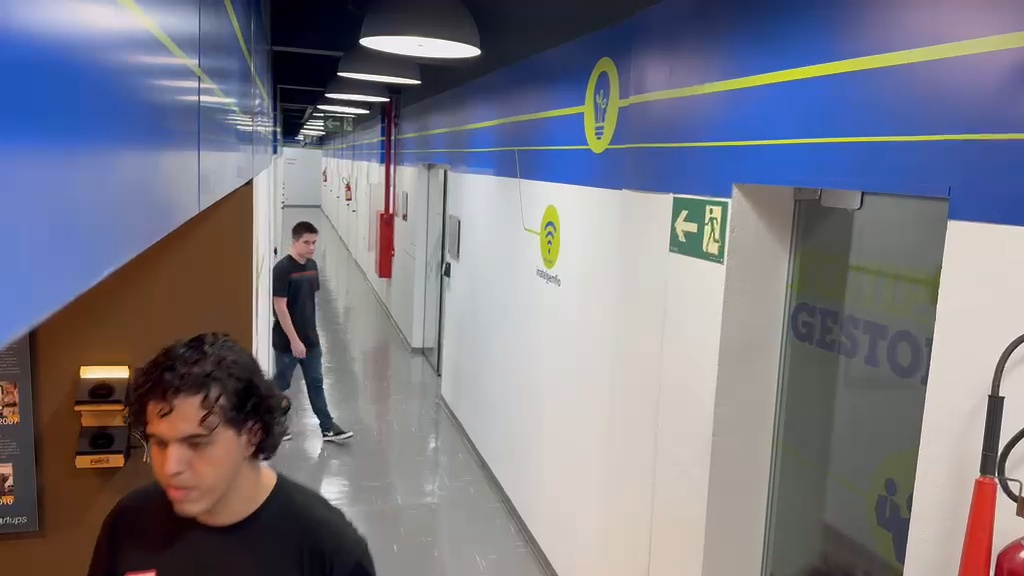person: (86, 333, 377, 571), (271, 220, 356, 444)
